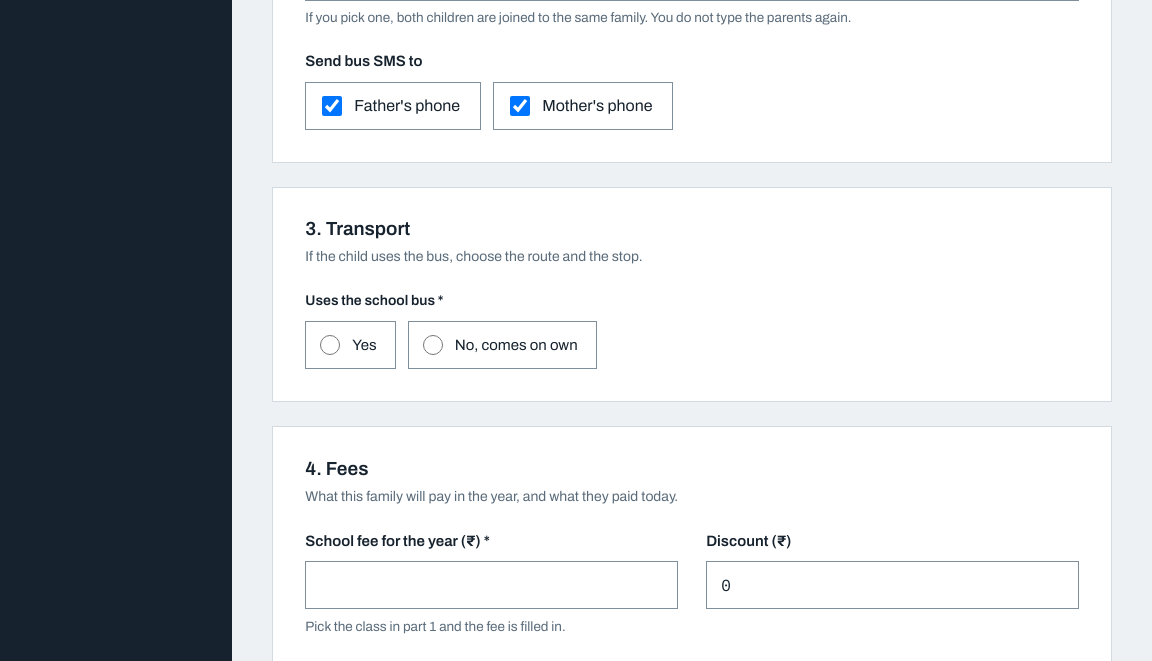
Test: New admission: part 4, Fees › busFeeIsHiddenWhenNoBus: the bus fee shows only with a bus and comes from settings
The image size is (1152, 661).
(page scrolled)
Expected: the field labelled "Bus fee for the year" is not shown
Expected: the text "Bus fee" is not shown
Step 1. Click the radio button labelled "Yes" → (330, 345), box [320,335,340,355]
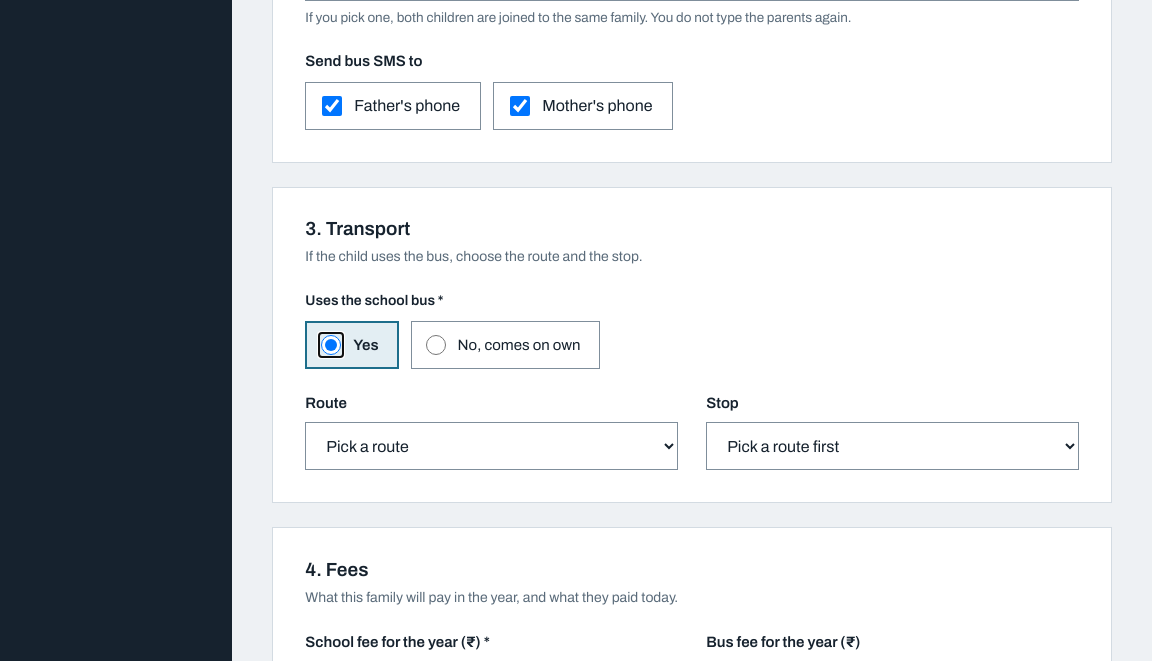
Step 2. Click the radio button labelled "No, comes on own" → (436, 345), box [426,335,446,355]
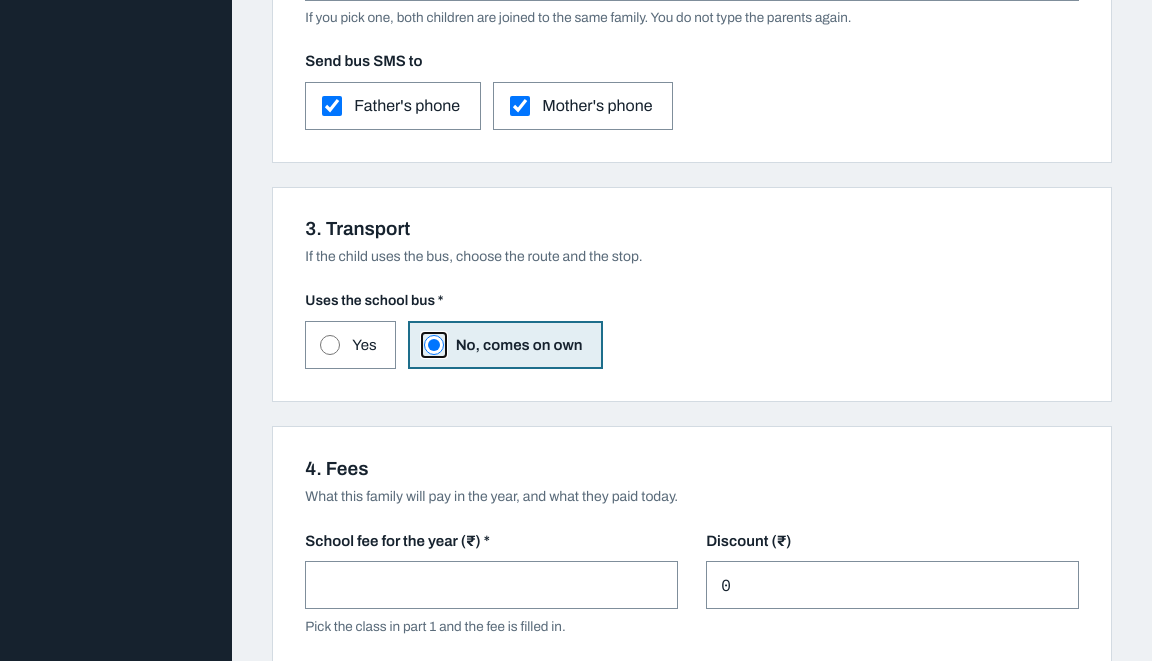
Expected: the label labelled "Bus fee for the year" is gone
Expected: the text "Bus fee" is gone
